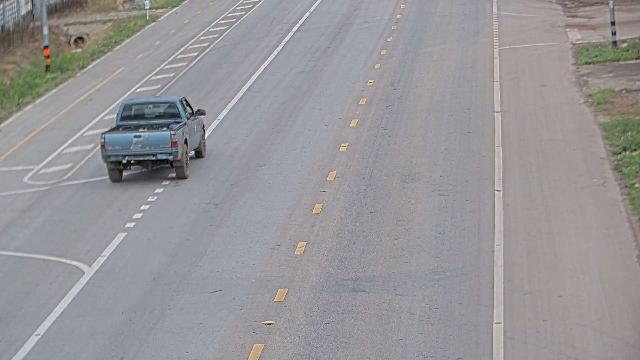pickup-truck: (99, 95, 207, 183)
